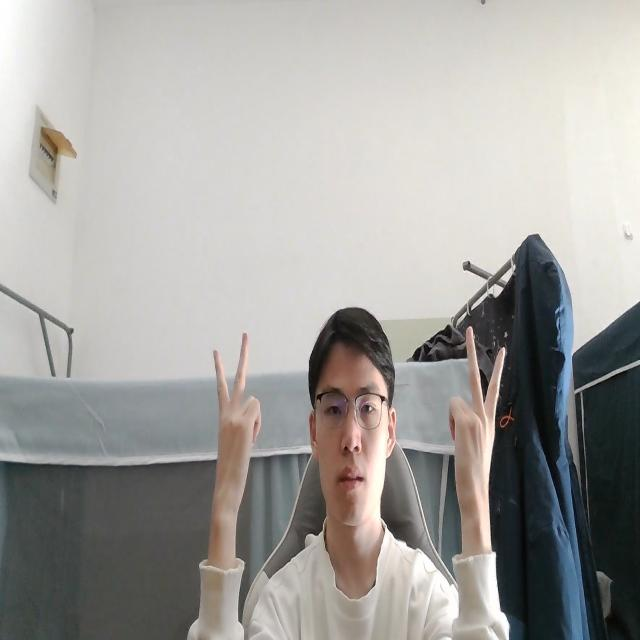yes: (447, 324, 505, 532), (207, 323, 263, 509)
